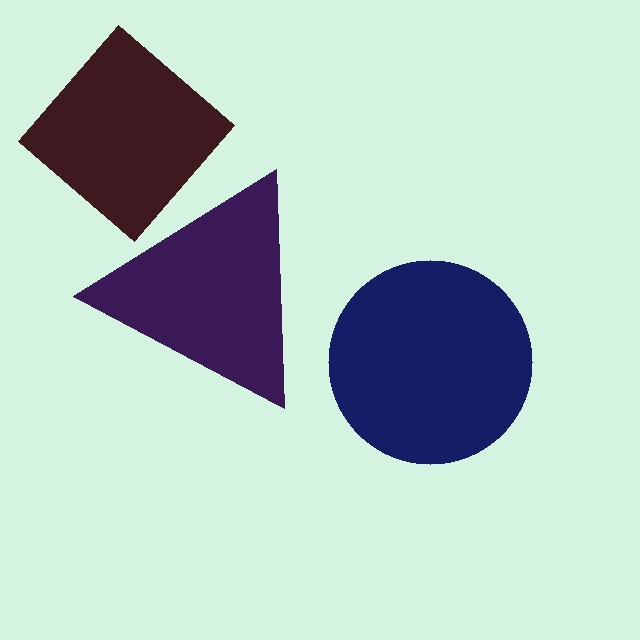circle: (328, 260, 532, 464)
square: (18, 25, 234, 242)
triangle: (72, 168, 284, 408)
